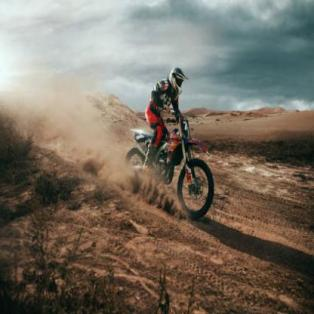Motocicleta: (131, 104, 218, 224)
